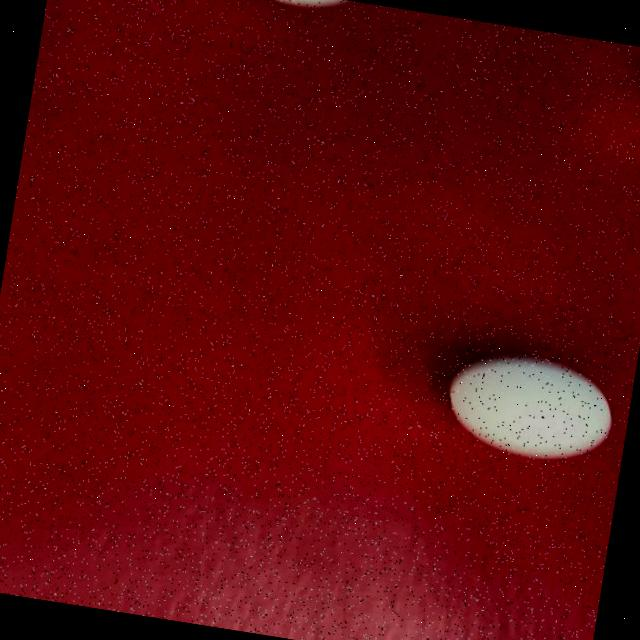ping-pong-ball: (412, 324, 638, 486), (152, 0, 412, 40)
